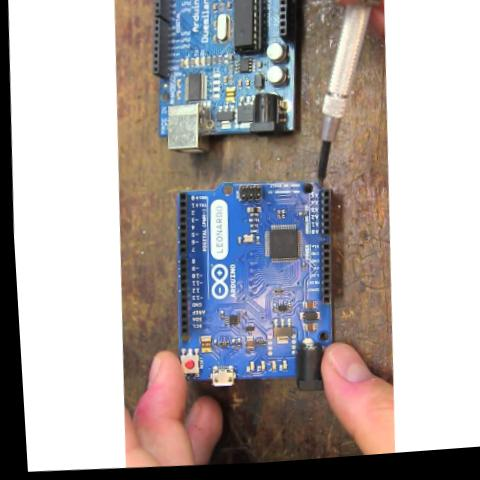Arduino-Leonardo: (162, 173, 340, 405)
